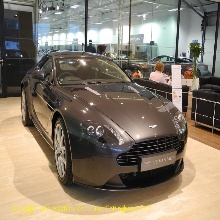no damage: (20, 51, 189, 191)
